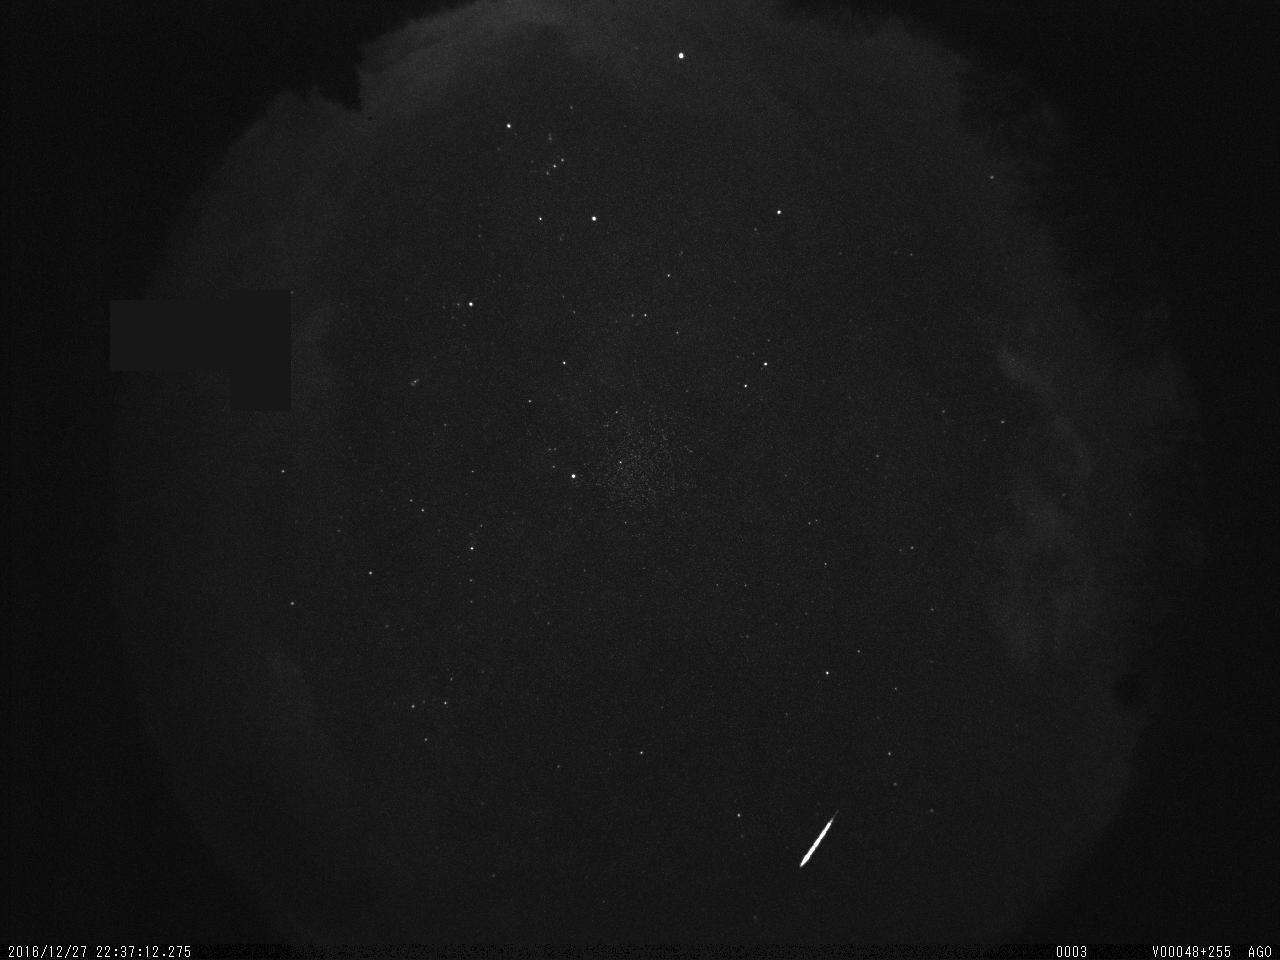Meteor: (788, 798, 852, 884)
